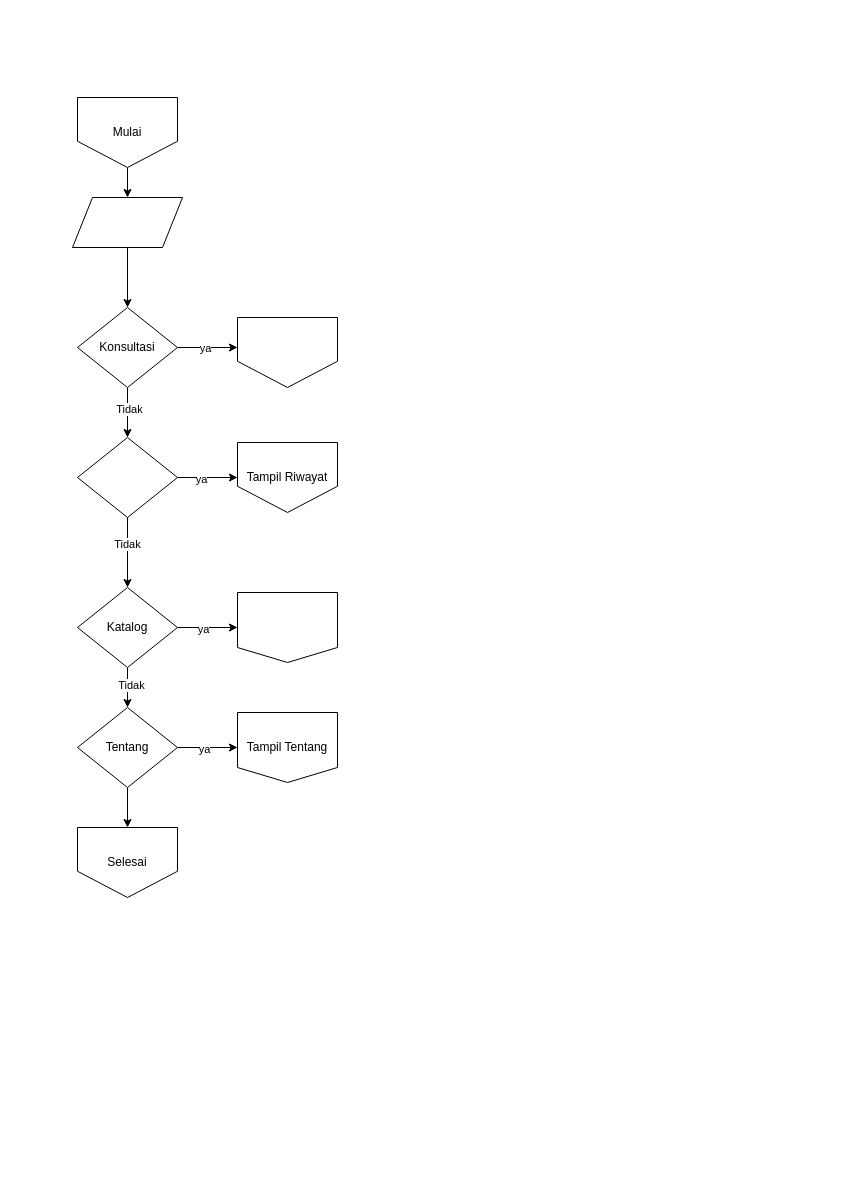
The diagram is 861 pixels wide and 1203 high, and some of its shapes have lost their labels. The box of each missing label's shape, as (x1, y1, x2, y2) in pixels:
Beranda: (72, 196, 182, 248)
Riwayat: (76, 436, 178, 518)
Tampil katalog: (236, 592, 338, 662)
Tampil Konsultasi: (236, 316, 338, 388)
